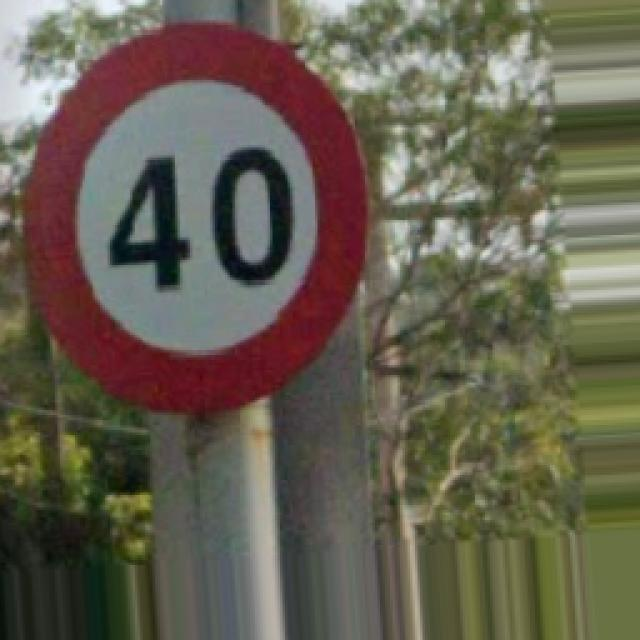Speed Limit -40-: (25, 25, 362, 408)
